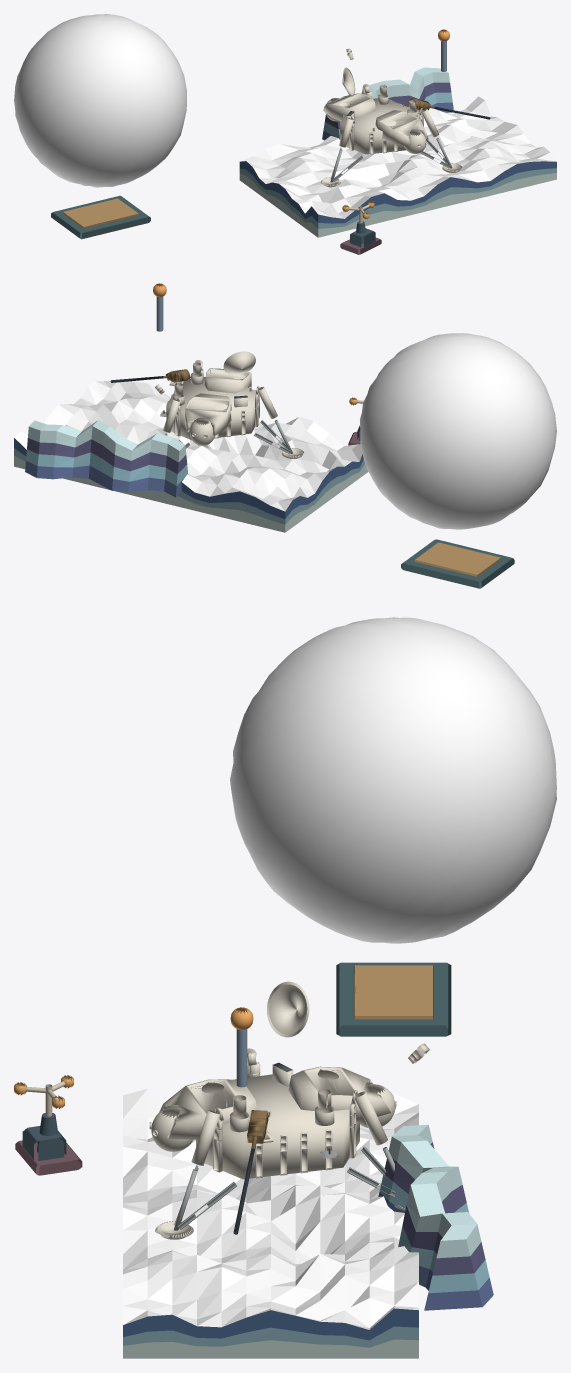
The model's file is europa.obj.
3 views of the same model, one above another, from view 1: azimuth 30°, elevation 25°; view 2: azimuth 150°, elevation 25°; view 3: azimuth 270°, elevation 25° (orthographic). The views are drawn at different scales.
Visible parts, largest first — view 1: europa; view 2: europa; view 3: europa.
Boxes of the visible parts, x1,y1,x2,y2 form: europa: (14, 14, 556, 254); europa: (14, 283, 556, 588); europa: (14, 617, 556, 1358).
Size of the model in its own units: 1.52 by 0.6274 by 0.8263.
